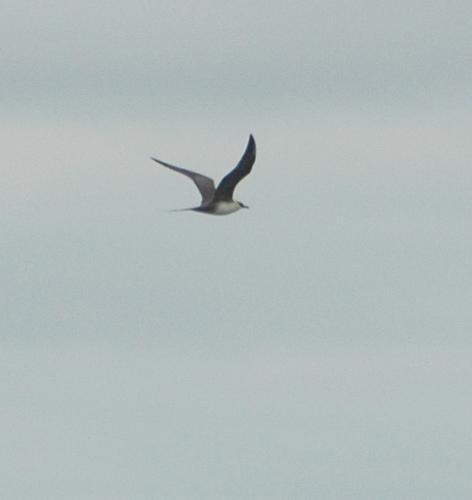bird: (146, 128, 259, 221)
